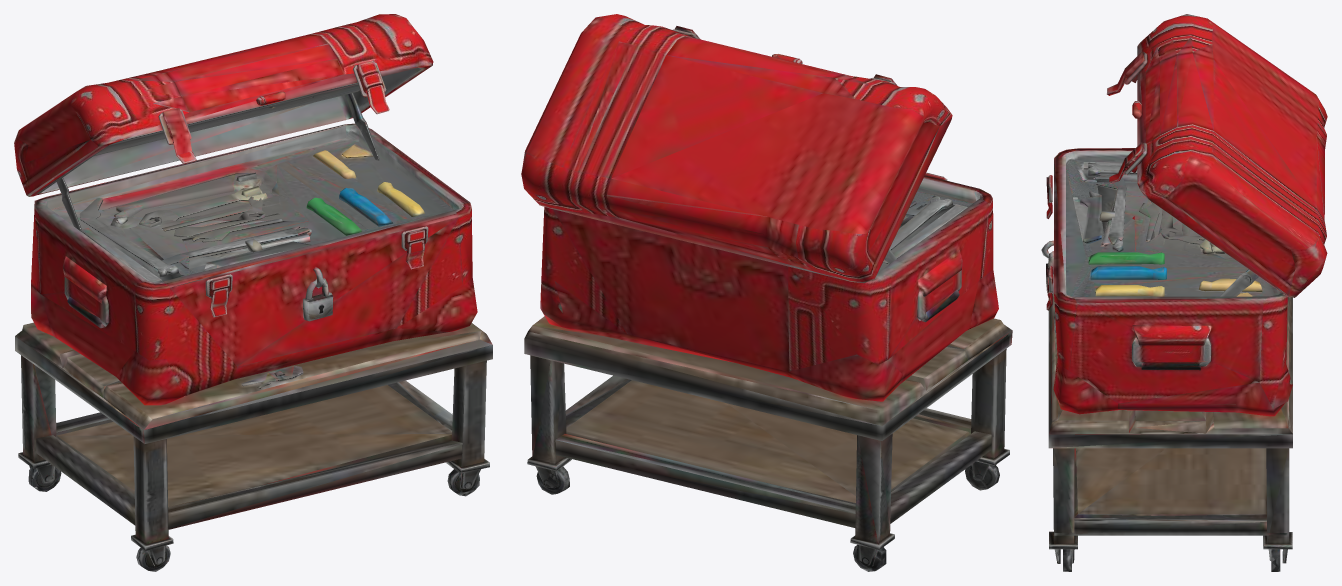
Rendered from toolbox_open.glb.
3 views of the same model, side by side, from view 1: azimuth 30°, elevation 25°; view 2: azimuth 150°, elevation 25°; view 3: azimuth 270°, elevation 25° (orthographic). The views are drawn at different scales.
Parts seen in each view (by area): view 1: toolbox_open; view 2: toolbox_open; view 3: toolbox_open.
Boxes of the visible parts, x1,y1,x2,y2 form: toolbox_open: [14, 14, 492, 571]; toolbox_open: [521, 14, 1012, 571]; toolbox_open: [1041, 14, 1327, 571].
Bounding box in the file's own units: 0.7 × 0.8278 × 0.5201.
Materials: 1 (1 with a texture image).
